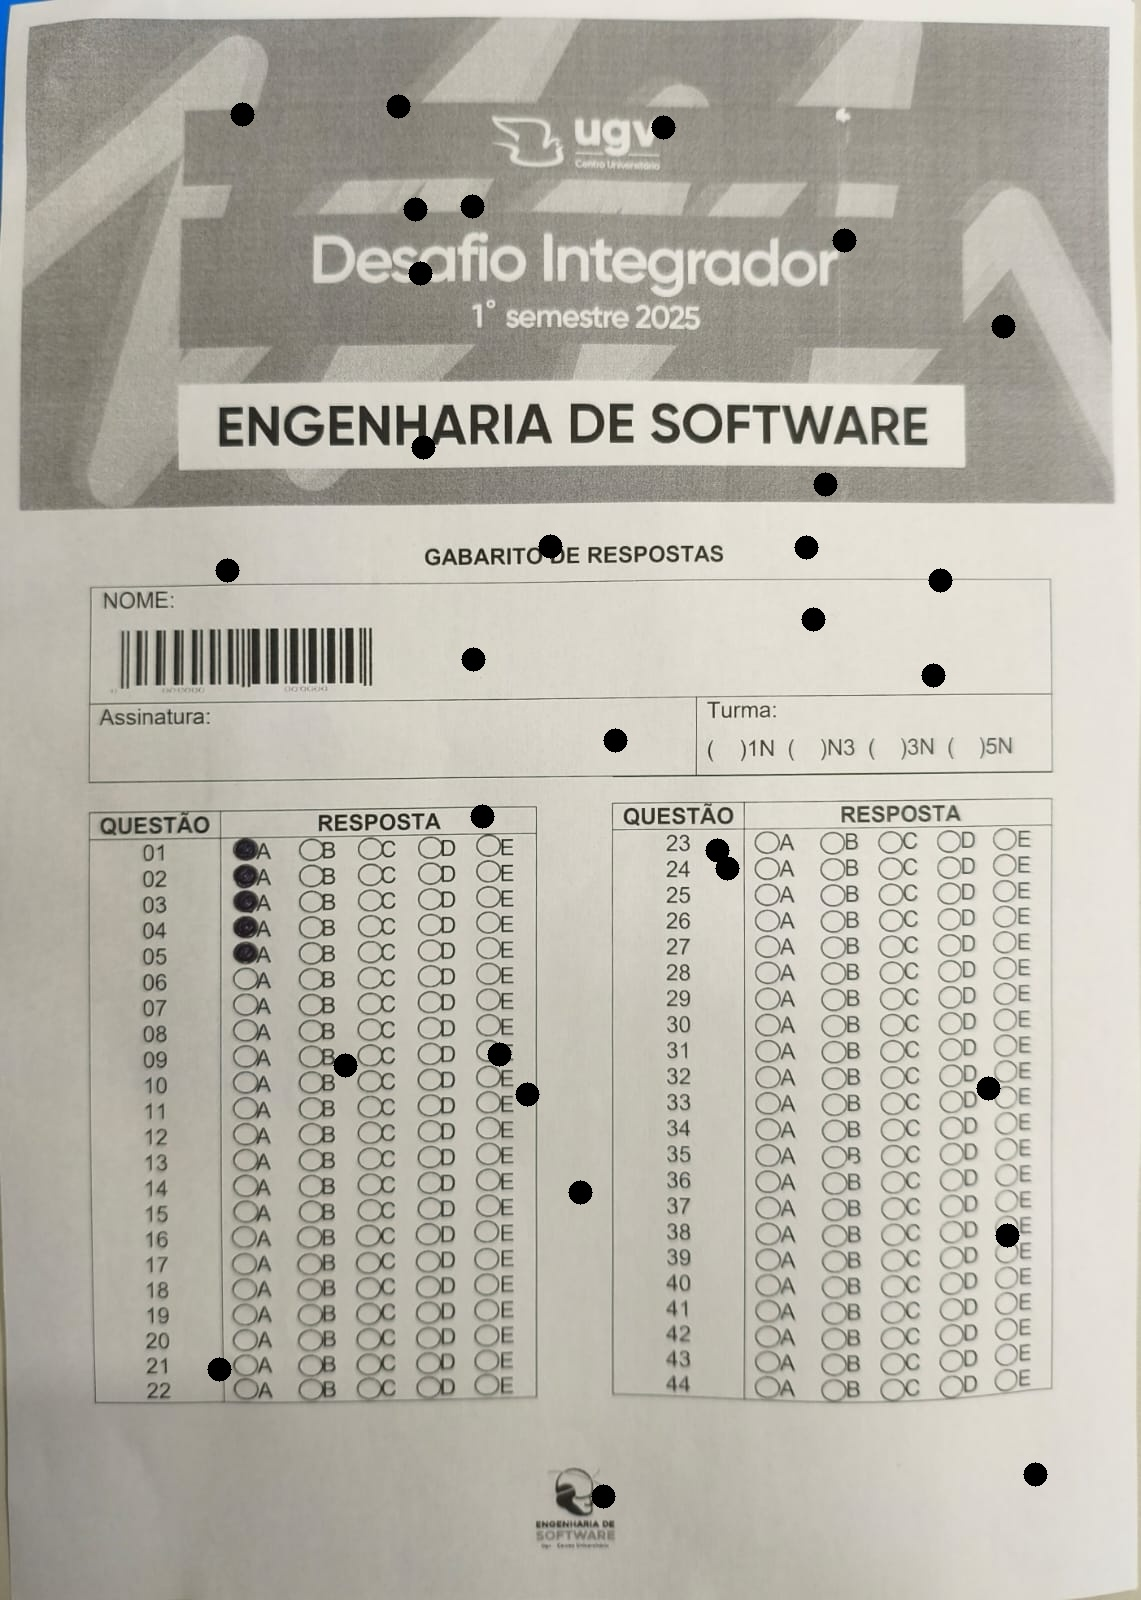bolinha: (813, 467, 837, 501), (1022, 1457, 1047, 1491), (407, 256, 432, 290), (651, 110, 675, 144), (230, 98, 254, 131), (461, 642, 485, 675), (487, 1037, 511, 1070), (403, 193, 427, 226), (976, 1072, 1000, 1105), (603, 723, 627, 757), (215, 553, 240, 586), (470, 799, 494, 833), (794, 530, 817, 564), (992, 309, 1015, 343), (411, 430, 435, 464), (715, 851, 738, 885), (207, 1352, 231, 1386), (568, 1175, 591, 1209), (801, 602, 825, 636), (921, 658, 945, 691), (832, 223, 856, 257), (591, 1479, 615, 1512), (461, 189, 484, 222), (705, 833, 729, 867), (333, 1048, 357, 1081), (929, 563, 952, 596), (538, 530, 562, 563), (995, 1219, 1019, 1252), (515, 1078, 538, 1111), (387, 89, 410, 122)
